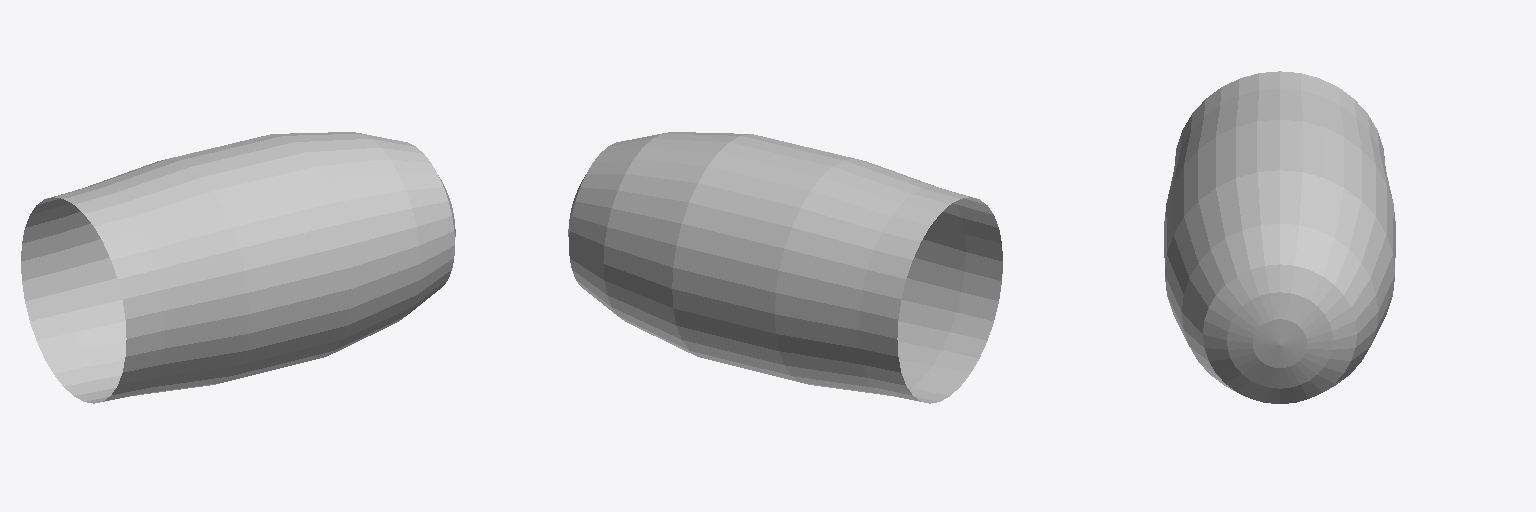
File: BallProjectileHead.obj
3 views of the same model, side by side, from view 1: azimuth 30°, elevation 25°; view 2: azimuth 150°, elevation 25°; view 3: azimuth 270°, elevation 25° (orthographic).
Parts seen in each view (by area): view 1: Sphere; view 2: Sphere; view 3: Sphere.
Boxes of the visible parts, x1,y1,x2,y2 form: Sphere: [21, 132, 455, 403]; Sphere: [568, 132, 1002, 403]; Sphere: [1164, 71, 1395, 403].
Bounding box in the file's own units: 1.08 × 0.5922 × 0.5922.